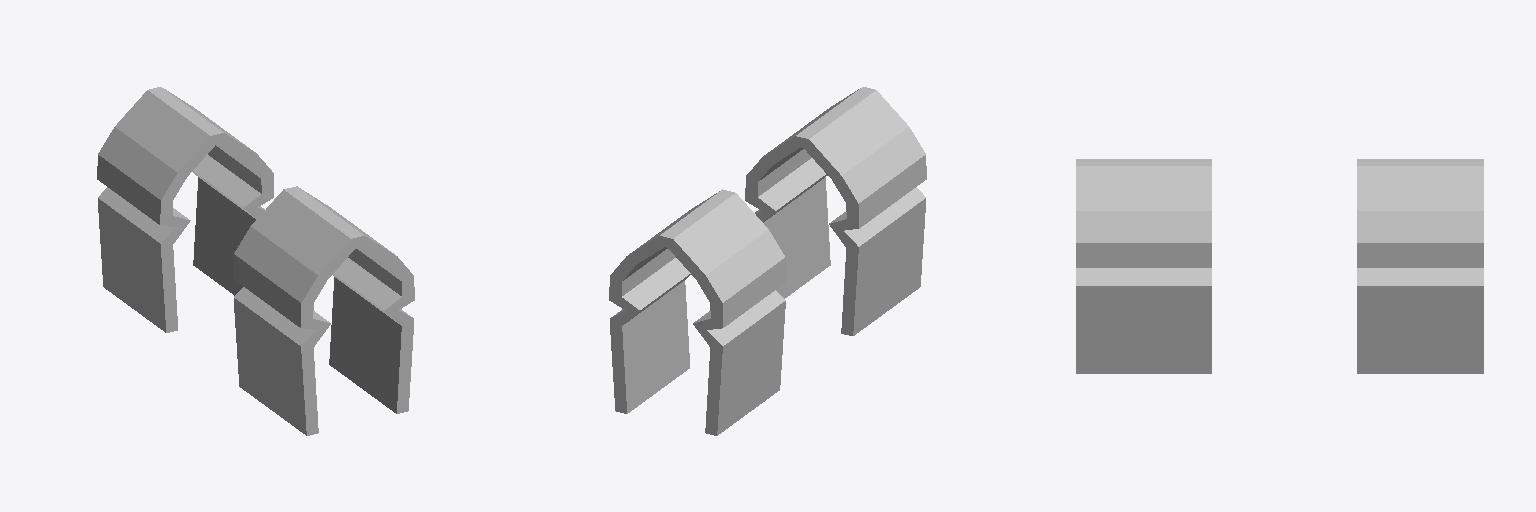
File: Arche.obj
The picture shows the model from 3 angles: view 1: azimuth 30°, elevation 25°; view 2: azimuth 150°, elevation 25°; view 3: azimuth 270°, elevation 25°; orthographic projection.
Parts seen in each view (by area): view 1: Spawn_Zone1, Spawn_Zone; view 2: Spawn_Zone, Spawn_Zone1; view 3: Spawn_Zone1, Spawn_Zone.
Part boxes in pixels (left/top/right/bottom): Spawn_Zone1: left=233, top=186, right=414, bottom=435; Spawn_Zone: left=97, top=87, right=273, bottom=332; Spawn_Zone: left=609, top=189, right=785, bottom=435; Spawn_Zone1: left=745, top=87, right=926, bottom=335; Spawn_Zone1: left=1076, top=159, right=1211, bottom=373; Spawn_Zone: left=1357, top=159, right=1483, bottom=373.
Size of the model in its own units: 221 by 345 by 682.